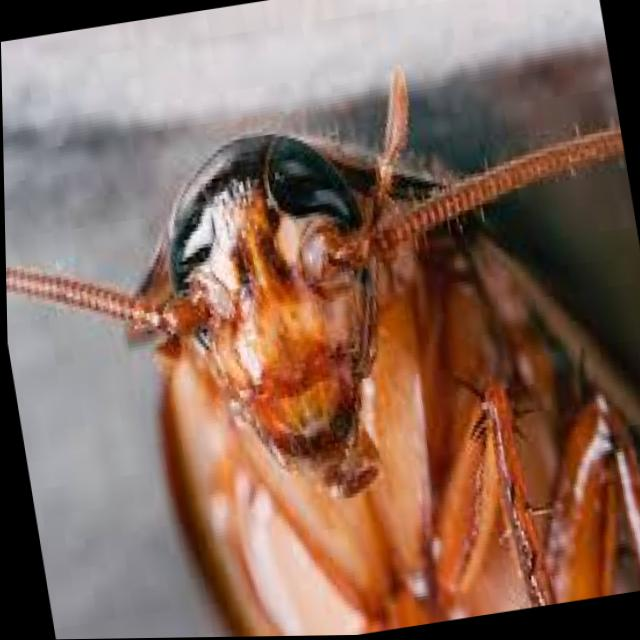Cockroach: (1, 24, 640, 640)
